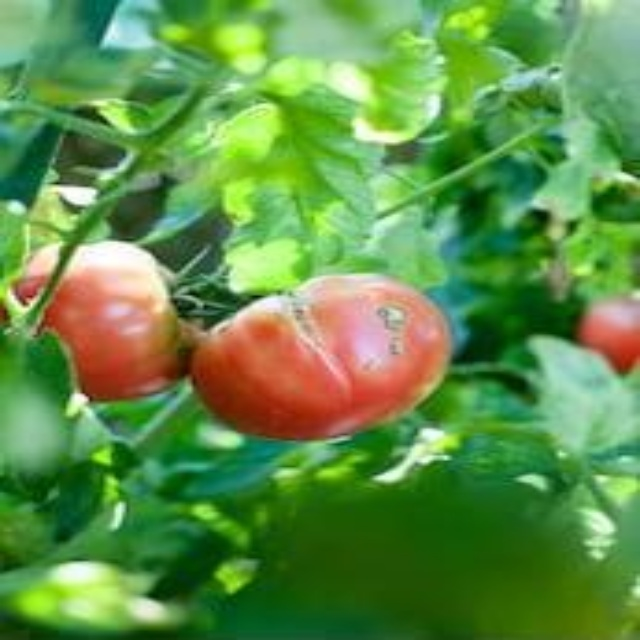tomato: (199, 286, 450, 440), (26, 243, 184, 397)
